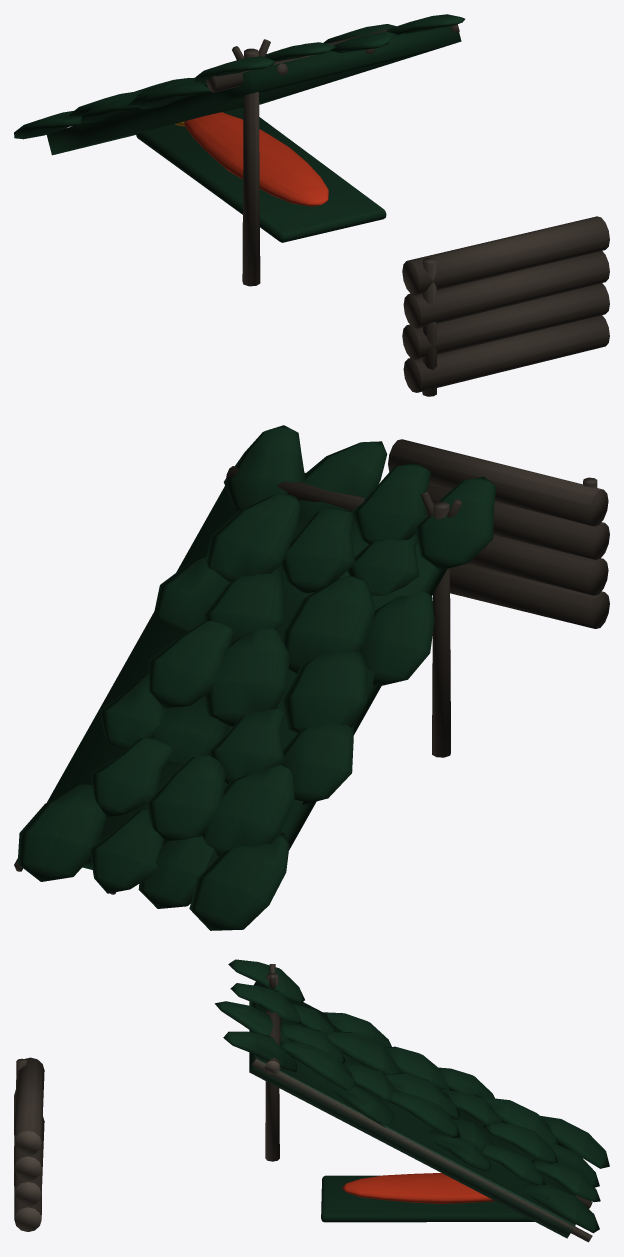
Rendered from LeanTo_section.glb.
3 views of the same model, one above another, from view 1: azimuth 30°, elevation 25°; view 2: azimuth 150°, elevation 25°; view 3: azimuth 270°, elevation 25° (orthographic). The views are drawn at different scales.
Visible parts, largest first — view 1: sec_reflector, sec_roofmat, sec_bed, sec_thatch, sec_bag, sec_posts, sec_ridge; view 2: sec_thatch, sec_reflector, sec_roofmat, sec_posts, sec_ridge; view 3: sec_thatch, sec_roofmat, sec_bed, sec_reflector, sec_bag, sec_rafters, sec_posts, sec_ridge.
Boxes of the visible parts, <box> form: sec_reflector: <box>402,216,609,396</box>; sec_roofmat: <box>46,26,461,155</box>; sec_bed: <box>136,107,386,242</box>; sec_thatch: <box>14,14,464,139</box>; sec_bag: <box>184,112,328,206</box>; sec_posts: <box>232,39,270,286</box>; sec_ridge: <box>206,29,388,92</box>; sec_thatch: <box>17,425,496,930</box>; sec_reflector: <box>388,439,609,628</box>; sec_roofmat: <box>47,472,447,869</box>; sec_posts: <box>420,492,462,757</box>; sec_ridge: <box>226,466,487,549</box>; sec_thatch: <box>214,959,609,1233</box>; sec_roofmat: <box>249,981,575,1238</box>; sec_bed: <box>321,1175,534,1222</box>; sec_reflector: <box>14,1057,44,1231</box>; sec_bag: <box>342,1173,494,1203</box>; sec_rafters: <box>252,1032,592,1242</box>; sec_posts: <box>265,964,279,1161</box>; sec_ridge: <box>264,987,280,1074</box>.
Size of the model in its own units: 1.9 by 1.81 by 4.87.
